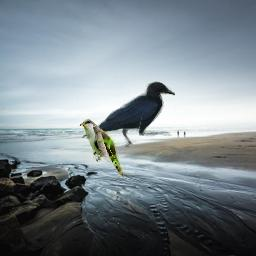Crow: (81, 81, 175, 148)
Cuckoo: (78, 119, 126, 177)
